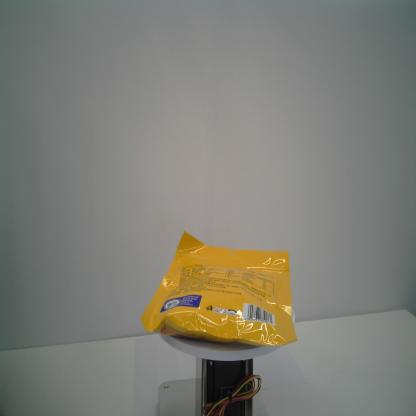Dried Fruit: (140, 229, 298, 348)
